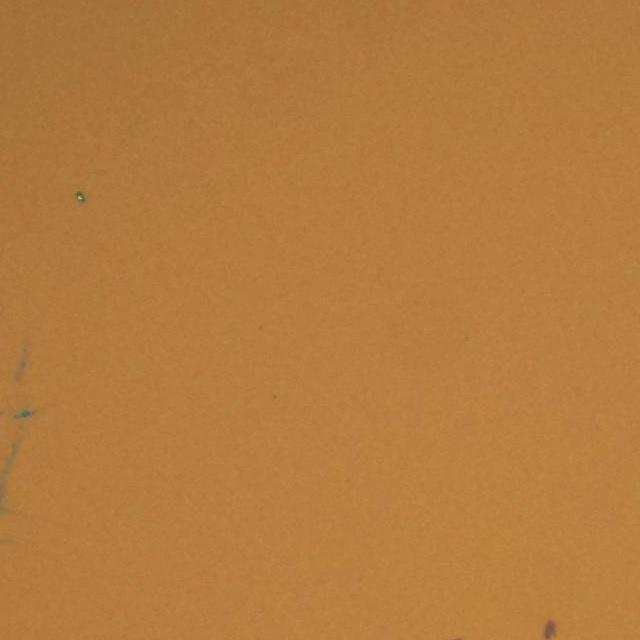monolayer-eWW4: (544, 619, 556, 640)
